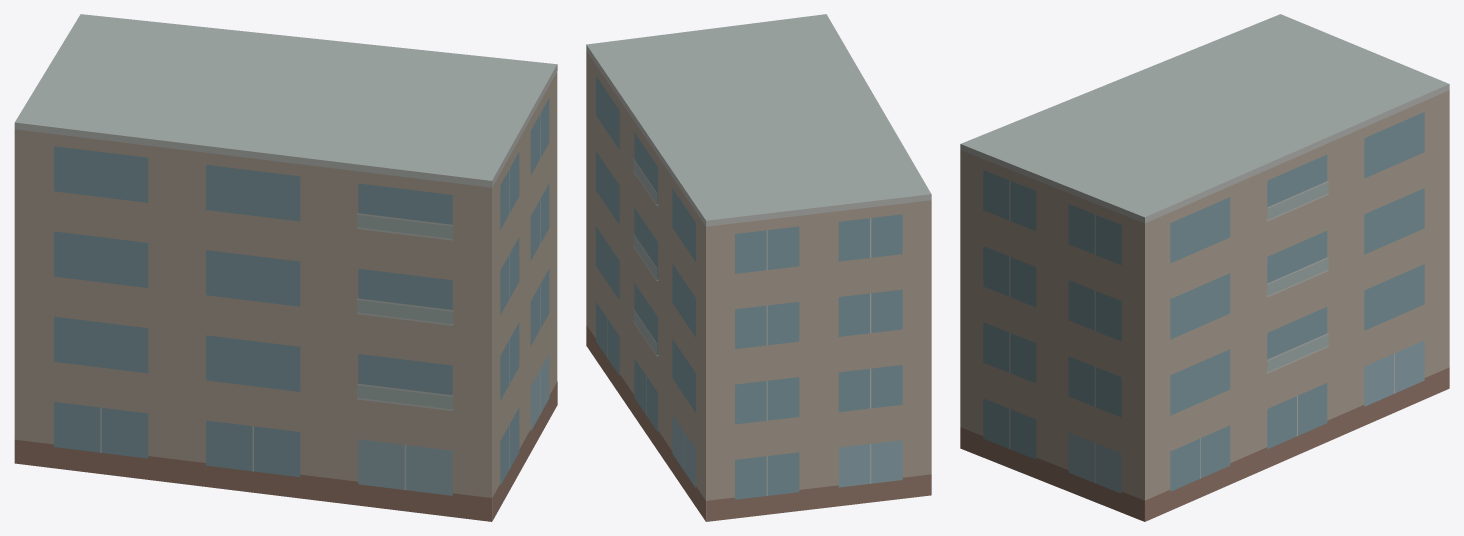
Rendered from survey-upis-32613258.glb.
The picture shows the model from 3 angles, left to right: view 1: azimuth 30°, elevation 25°; view 2: azimuth 150°, elevation 25°; view 3: azimuth 270°, elevation 25°; orthographic projection. The views are drawn at different scales.
Parts seen in each view (by area): view 1: survey-upis-32613258.tmp; view 2: survey-upis-32613258.tmp; view 3: survey-upis-32613258.tmp.
Boxes of the visible parts, <box> form: survey-upis-32613258.tmp: <box>14,14,557,521</box>; survey-upis-32613258.tmp: <box>586,14,931,521</box>; survey-upis-32613258.tmp: <box>960,14,1449,521</box>.
Bounding box in the file's own units: 17.49 × 12.2 × 17.77.
